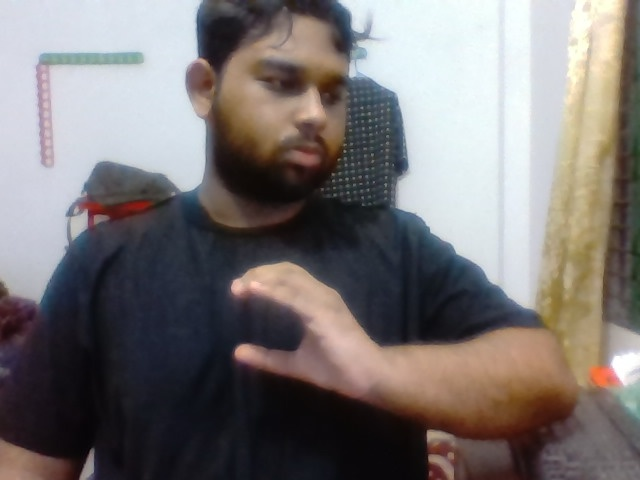C: (211, 251, 397, 420)
